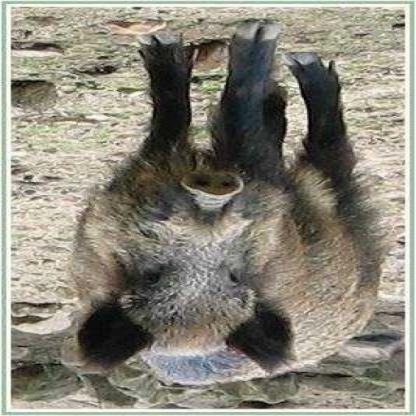boar: (64, 5, 390, 416)
